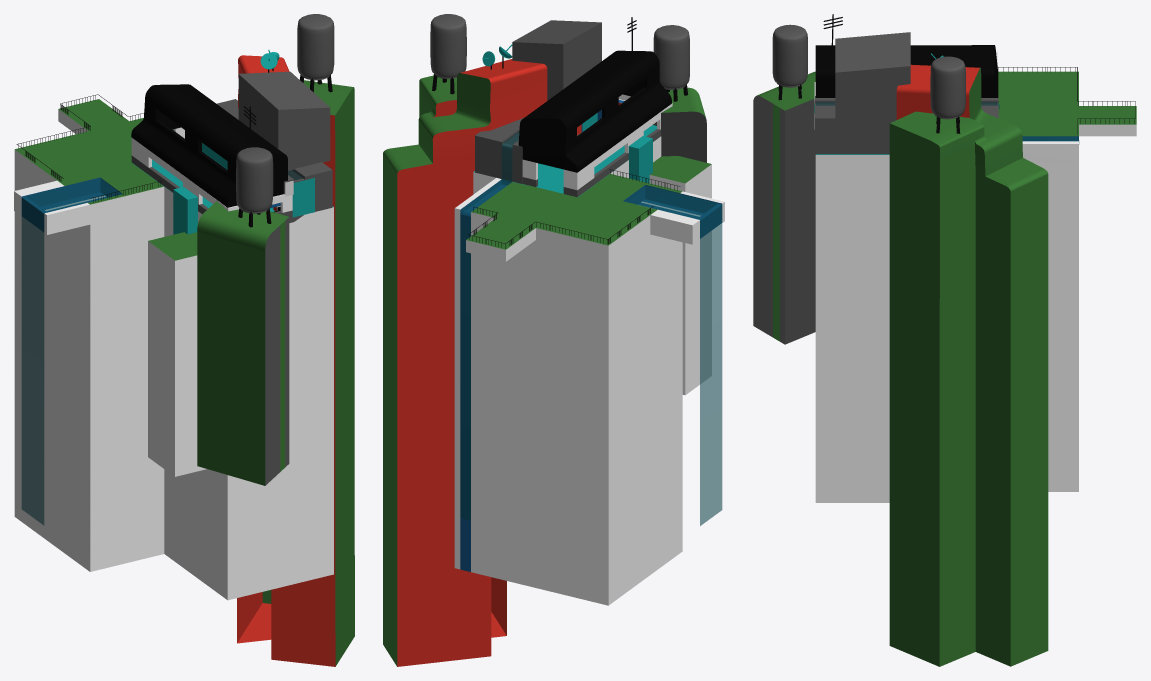
The model's file is Export_Level_Base_Final_04_-90drg.FBX.
3 views of the same model, side by side, from view 1: azimuth 30°, elevation 25°; view 2: azimuth 150°, elevation 25°; view 3: azimuth 270°, elevation 25° (orthographic). The views are drawn at different scales.
Visible parts, largest first — view 1: Base bâtiment, Background base, Volume bat TO HIDE, water piscine, Chateau d'eau, mur fond, barrière, mur batiment; view 2: Base bâtiment, Background base, water piscine, Volume bat TO HIDE, Chateau d'eau, barrière, mur batiment; view 3: Background base, Base bâtiment, Chateau d'eau, Volume bat TO HIDE.
Part boxes in pixels (<box>): Base bâtiment: <box>14,99,333,600</box>; Background base: <box>148,55,354,666</box>; Volume bat TO HIDE: <box>131,84,292,212</box>; water piscine: <box>21,170,303,525</box>; Chateau d'eau: <box>236,14,334,227</box>; mur fond: <box>202,143,314,217</box>; barrière: <box>16,94,162,202</box>; mur batiment: <box>131,155,292,218</box>; Base bâtiment: <box>454,125,724,605</box>; Background base: <box>383,20,711,666</box>; water piscine: <box>460,132,722,525</box>; Volume bat TO HIDE: <box>518,50,672,190</box>; Chateau d'eau: <box>430,14,689,101</box>; barrière: <box>468,169,680,248</box>; mur batiment: <box>522,129,660,197</box>; Background base: <box>753,32,1048,666</box>; Base bâtiment: <box>815,51,1136,502</box>; Chateau d'eau: <box>772,24,965,133</box>; Volume bat TO HIDE: <box>814,45,998,129</box>.
Size of the model in its own units: 5438 by 10417 by 6153.
